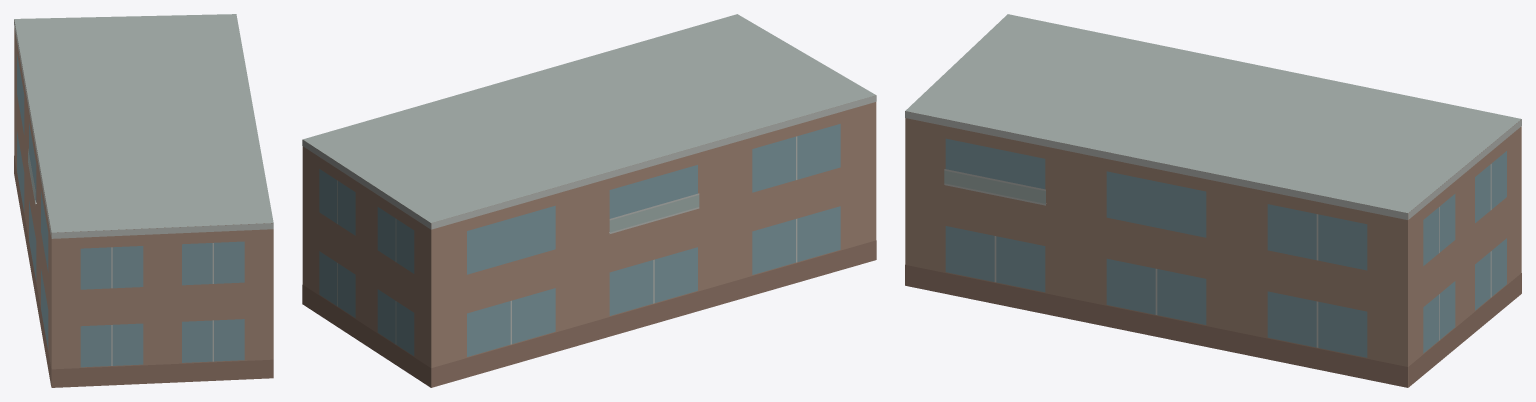
Rendered from survey-upis-32861433.glb.
3 views of the same model, side by side, from view 1: azimuth 30°, elevation 25°; view 2: azimuth 150°, elevation 25°; view 3: azimuth 270°, elevation 25° (orthographic). The views are drawn at different scales.
Visible parts, largest first — view 1: survey-upis-32861433.tmp; view 2: survey-upis-32861433.tmp; view 3: survey-upis-32861433.tmp.
Boxes of the visible parts, x1,y1,x2,y2 form: survey-upis-32861433.tmp: (14,14,273,387); survey-upis-32861433.tmp: (302,14,876,387); survey-upis-32861433.tmp: (905,14,1521,387).
Bounding box in the file's own units: 14.93 × 6.1 × 19.53.
